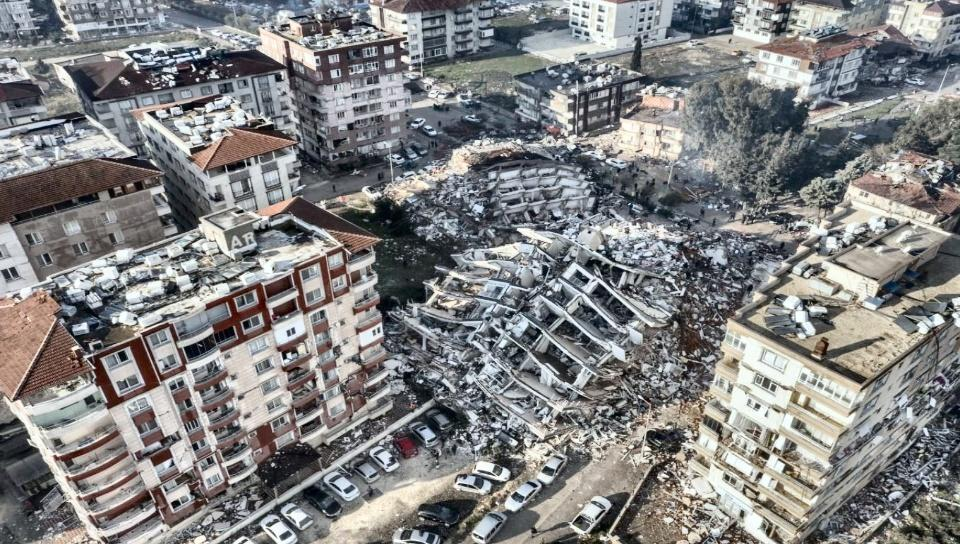kapali: (403, 214, 803, 496)
